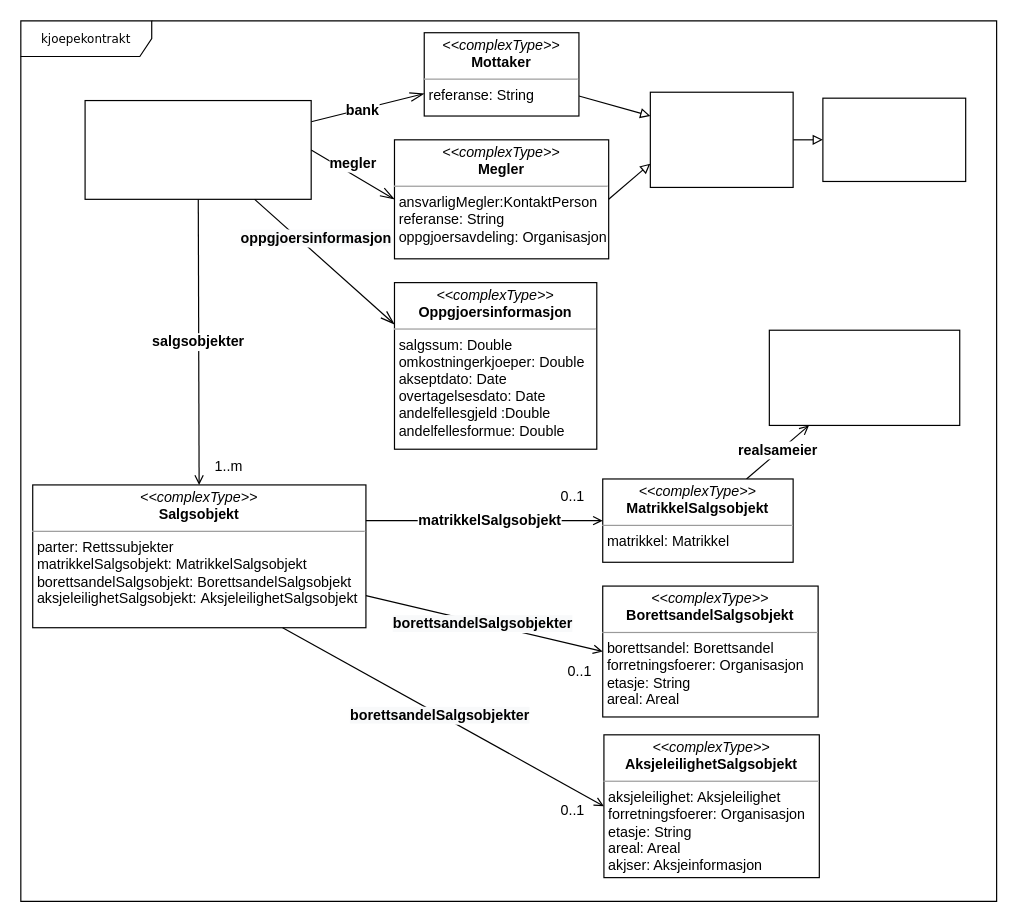
The diagram is 1017 pixels wide and 922 high, and some of its shapes have lost their labels. Each missing label, with the box of its shape:
<<complexType>> Kjoepekontrakt lenkeTilSalgsoppgave: URI metadata: MetaData: (84, 99, 311, 199)
<<complexType>> Organisasjon foretaksnavn: String adresse: Adresse: (649, 91, 793, 187)
<<complexType>> Realsameie matrikkel: Matrikkel eierBroek :Broek: (768, 329, 960, 425)
<<complexType>> Rettssubjekt id: String: (822, 97, 966, 181)
